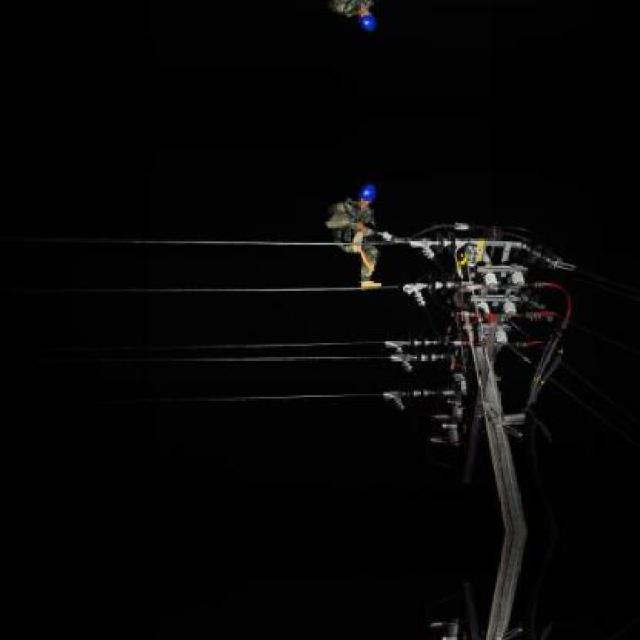helmet: (354, 184, 378, 210), (354, 2, 378, 28)
